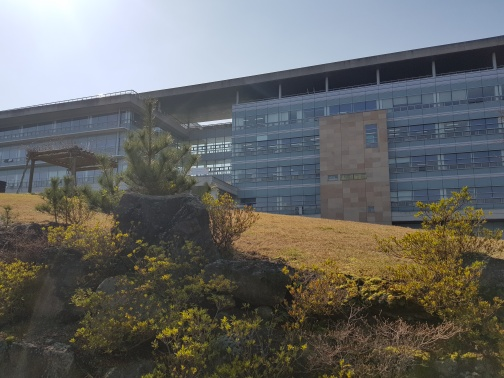Engineering College Building 4: (15, 76, 501, 196), (265, 51, 504, 218), (319, 107, 395, 227)
